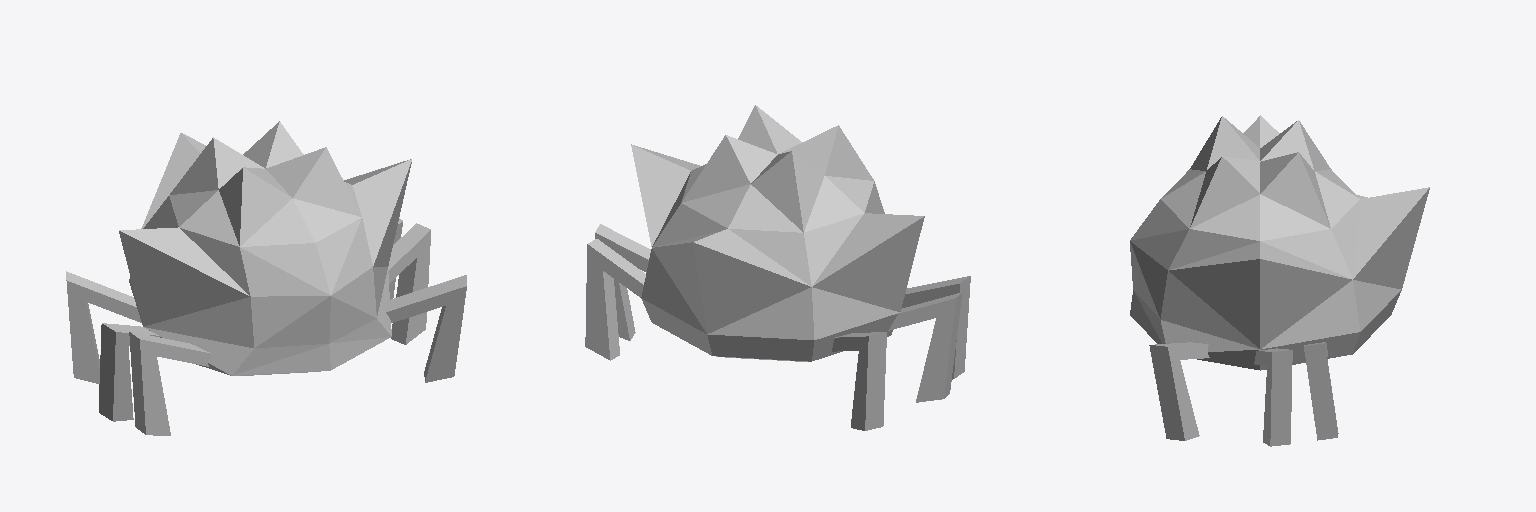
The model's file is neon_tick_4.obj.
3 renders of one model, left to right at view 1: azimuth 30°, elevation 25°; view 2: azimuth 150°, elevation 25°; view 3: azimuth 270°, elevation 25°, orthographic.
Bounding box in the file's own units: 1.4 × 0.9363 × 1.06.